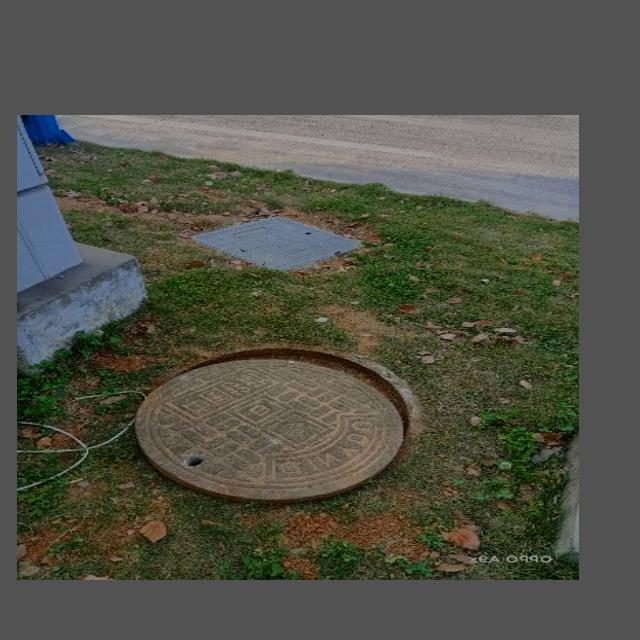uncovered: (134, 341, 422, 502)
